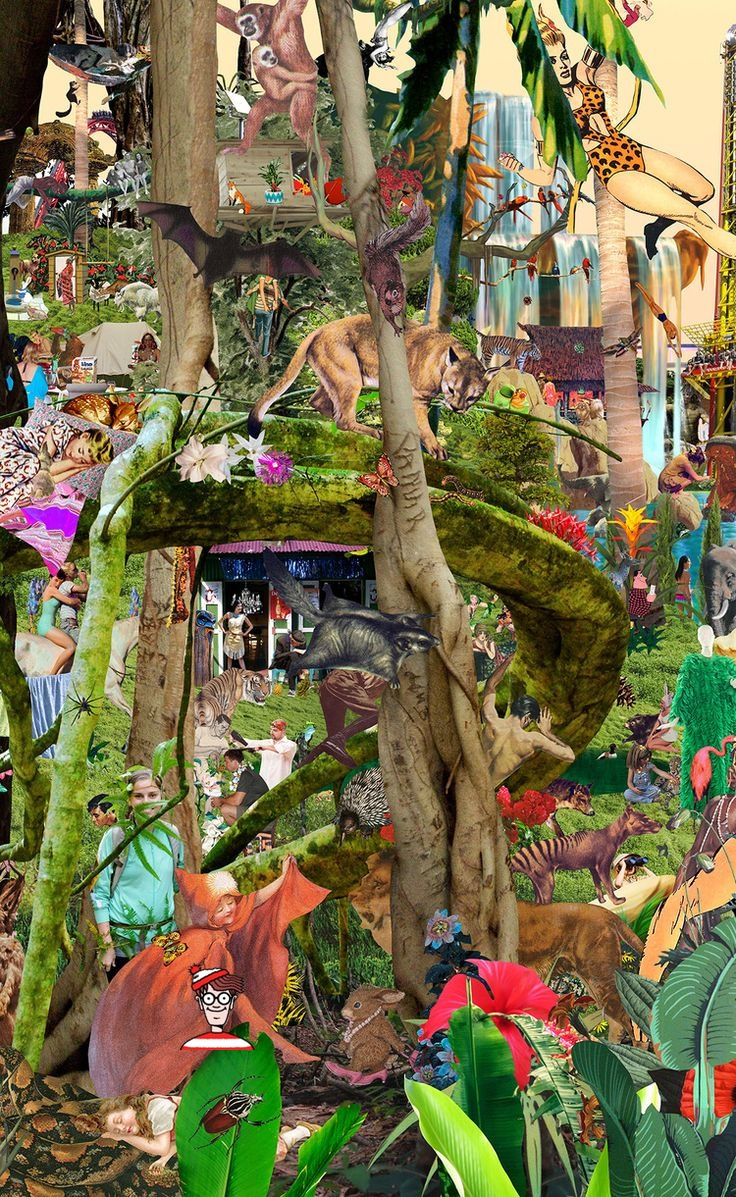waldo: (179, 963, 255, 1050)
